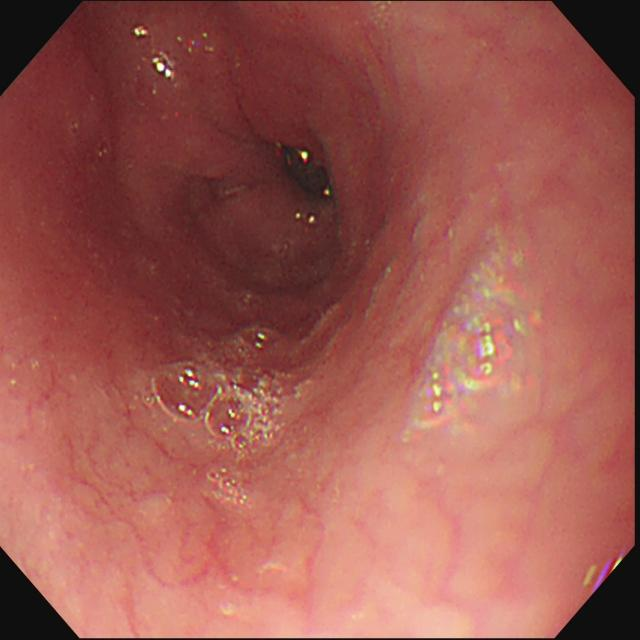E: (269, 130, 346, 211)
T: (406, 258, 545, 434), (142, 326, 287, 462)
U: (150, 54, 176, 84), (133, 26, 152, 39)
